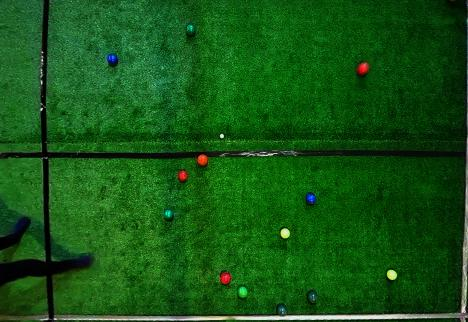blue: (306, 192, 317, 205), (108, 54, 118, 65)
green: (237, 285, 248, 299), (307, 290, 318, 304), (163, 209, 174, 220), (277, 304, 287, 316), (186, 24, 196, 35)
red: (356, 62, 369, 76), (220, 272, 232, 285), (197, 154, 209, 166), (177, 169, 188, 182)
vline: (1, 1, 50, 261), (458, 1, 467, 321), (1, 274, 55, 321)
white: (220, 134, 224, 138)
yellow: (386, 269, 397, 280), (280, 228, 290, 239)
